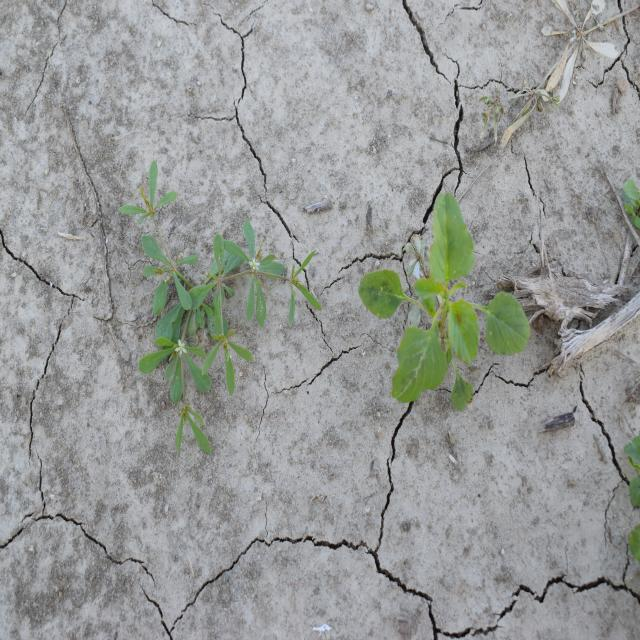Carpetweed: (118, 158, 324, 457)
PalmerAmaranth: (357, 190, 532, 414)
